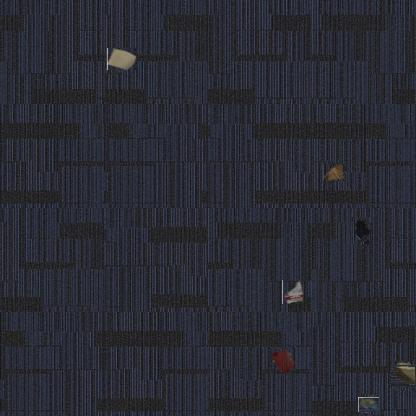dirty: (391, 363, 416, 389), (107, 48, 136, 70), (282, 280, 303, 304), (322, 163, 344, 181), (359, 395, 378, 414)
liquid: (272, 348, 298, 374), (352, 217, 370, 245)
